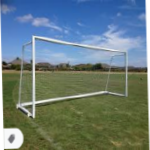goals: (15, 33, 130, 120)
